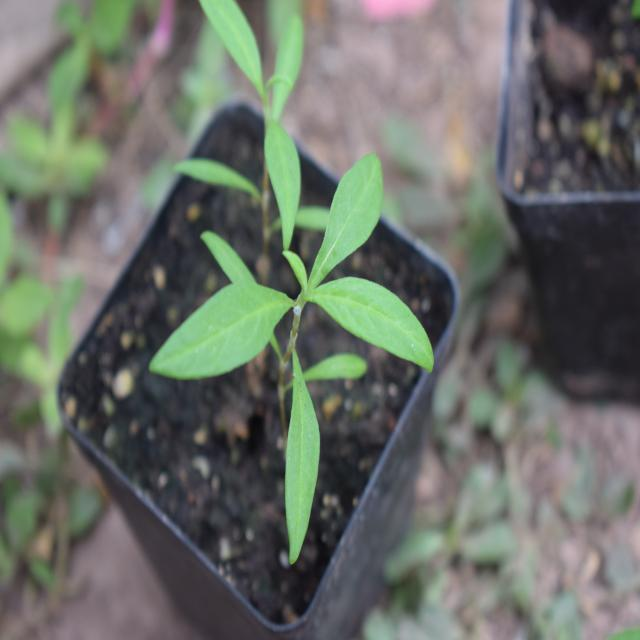white_smart_weed: (170, 174, 440, 572)
